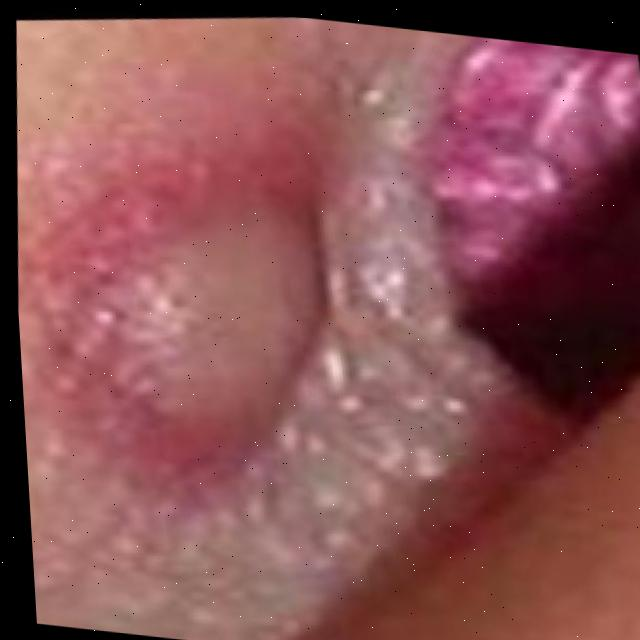Eczema: (115, 36, 640, 593)
